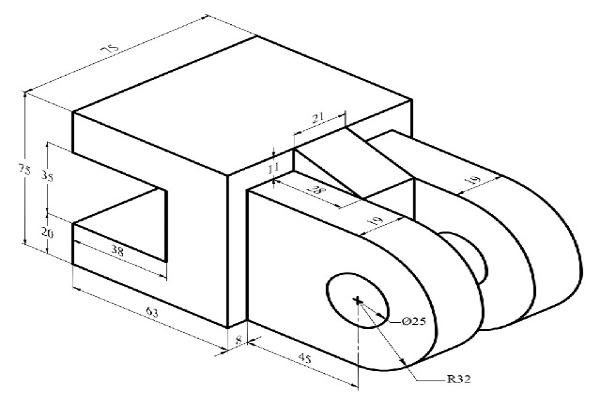dimensions: (441, 368, 476, 390), (95, 37, 126, 57), (303, 108, 331, 130), (307, 178, 331, 200), (398, 313, 430, 329), (293, 346, 316, 368), (461, 172, 487, 191), (262, 158, 285, 176), (15, 158, 35, 178), (142, 302, 163, 321), (106, 241, 128, 259), (36, 168, 56, 186), (365, 214, 386, 229), (39, 221, 55, 240), (233, 333, 246, 346)
